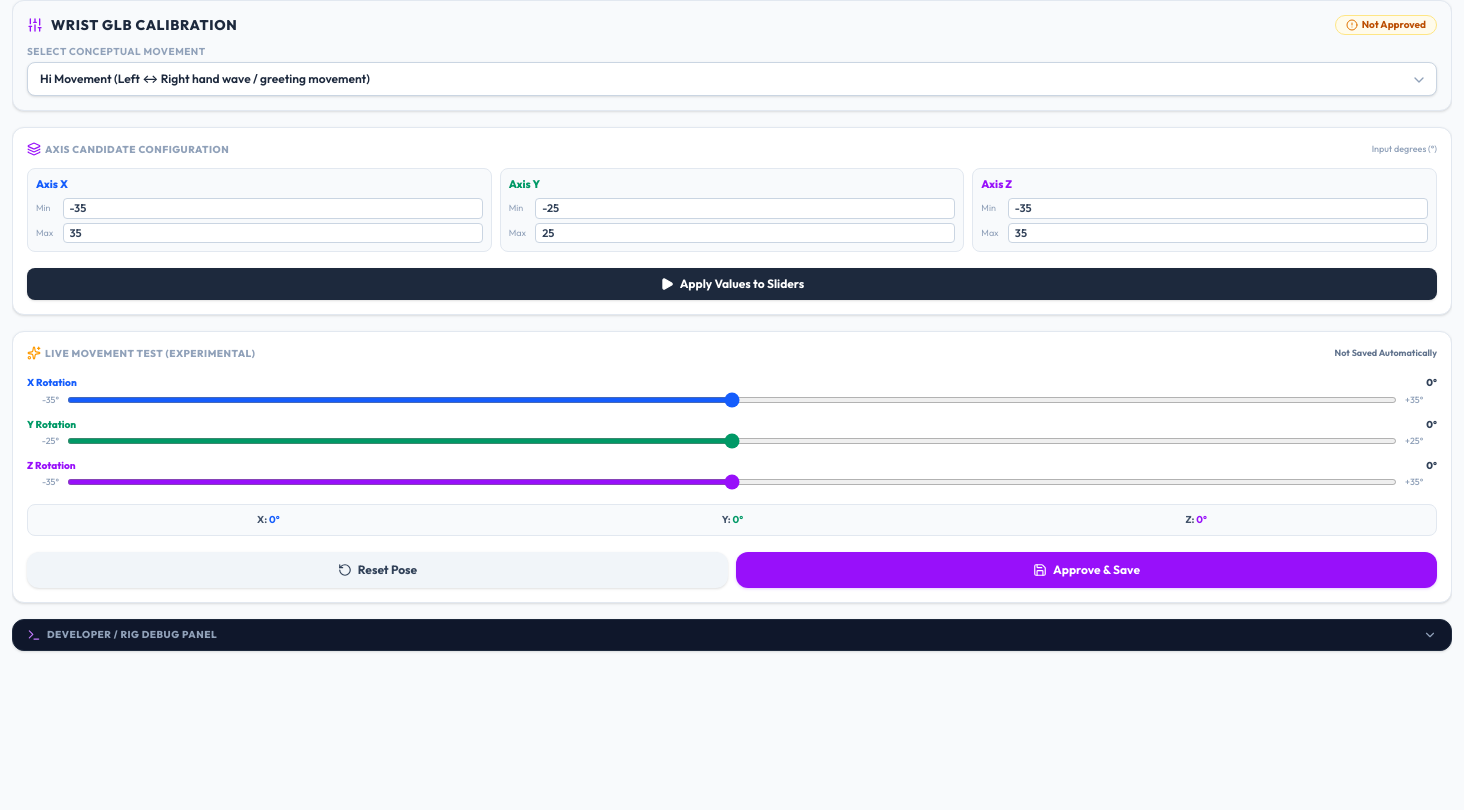
it: GLBCalibrationPanel Component › allows changing candidate ranges and applies them to live sliders
# inputs[0] is X Min, inputs[1] is X Max
Replace the text in the 1st number field with "-45" at (273,208), box [62,198,483,219]
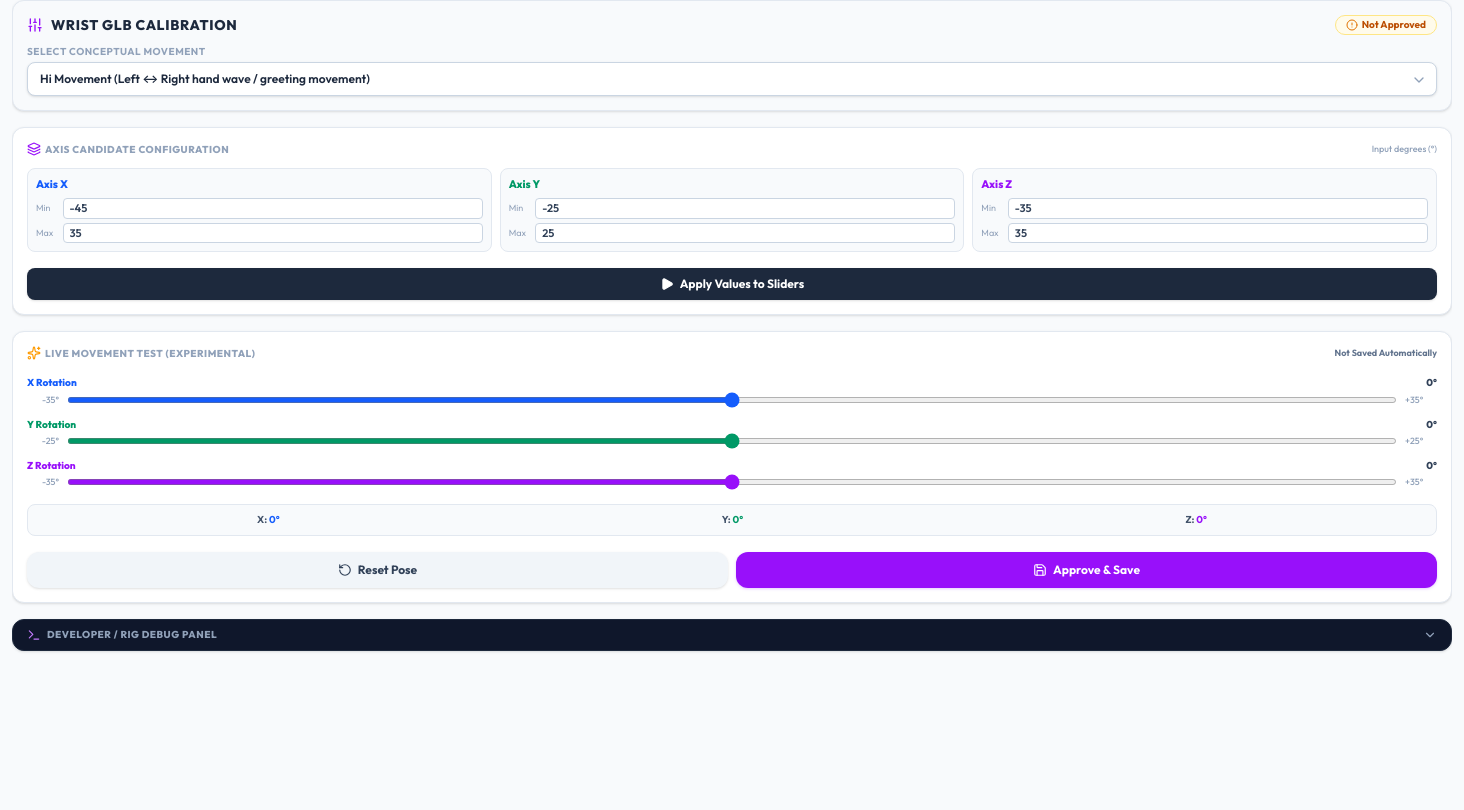
Replace the text in the 4th number field with "45" at (273,233), box [62,223,483,243]
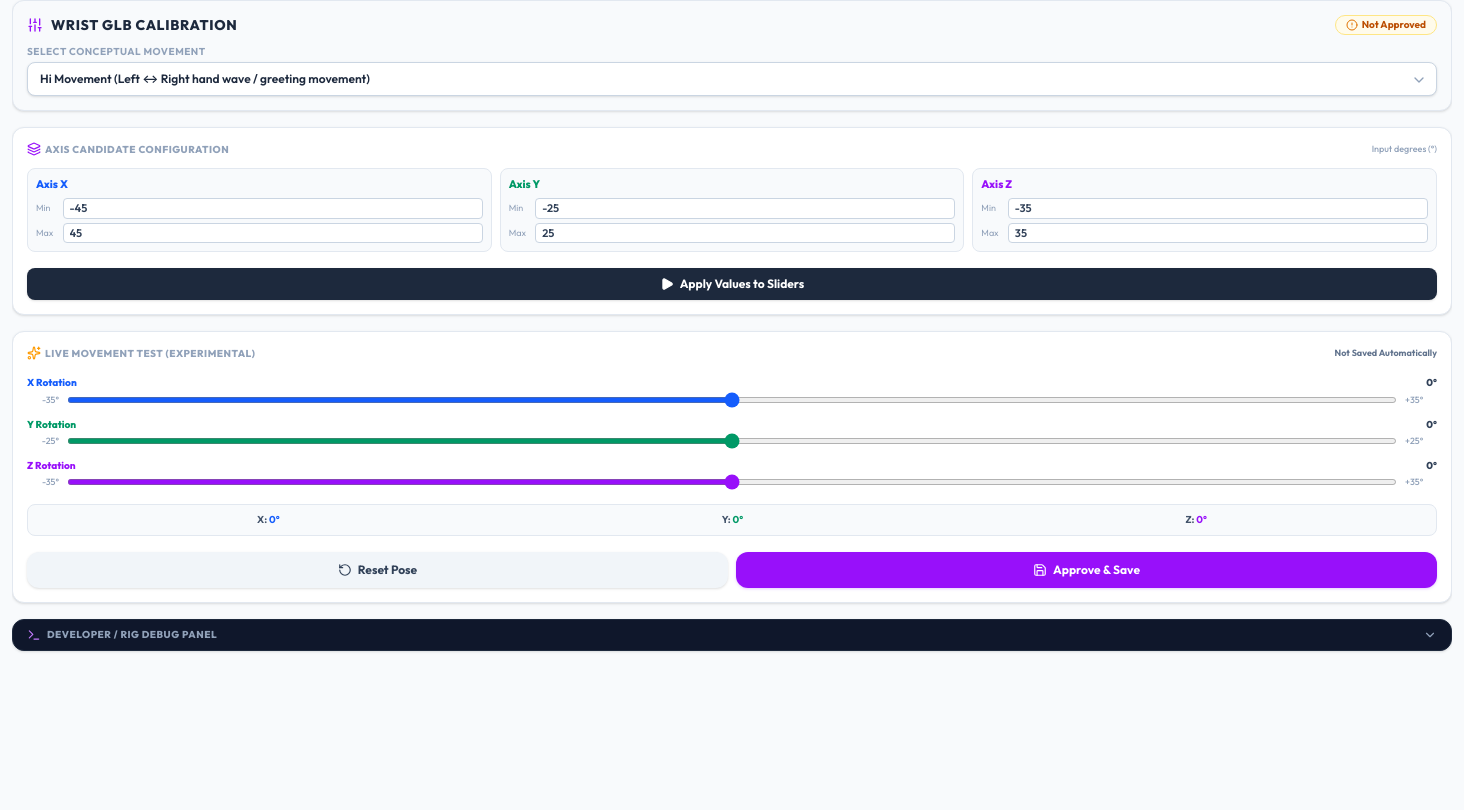
# Click Apply Values
Click the button "Apply Values to Sliders".
click(732, 284)  # box [27,268,1437,300]
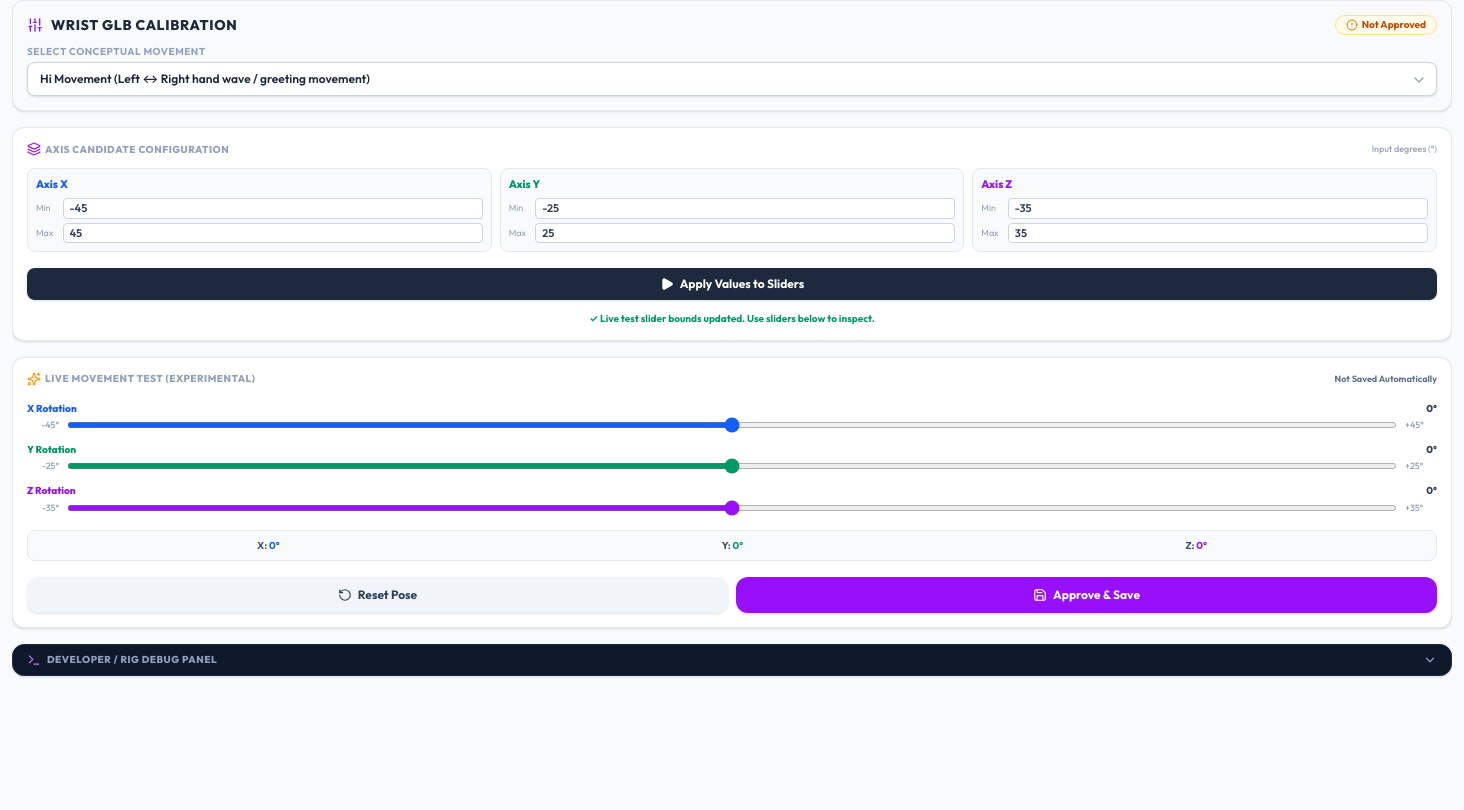
Now the text "Live test slider bounds updated" is shown, box [589,312,875,325]
